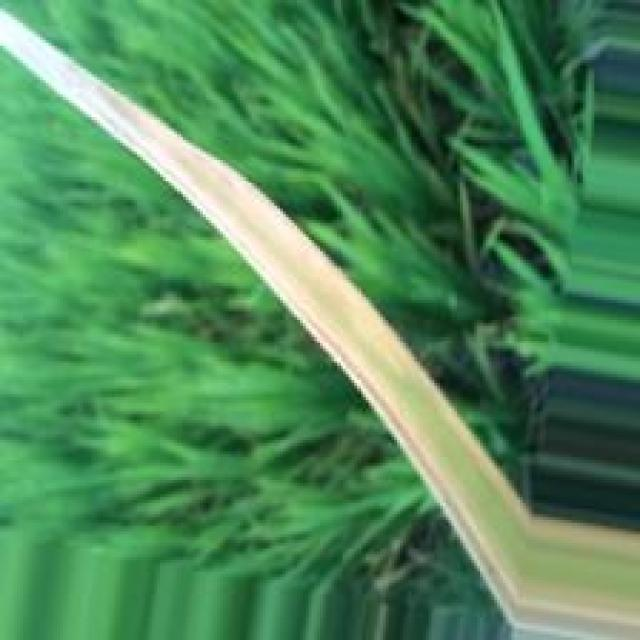Leaf_Scald: (0, 4, 640, 638)
